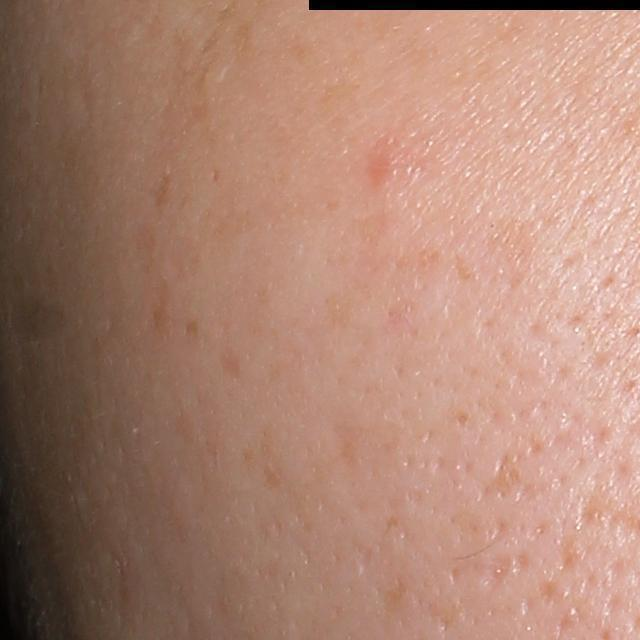atrophic_scar: (474, 452, 523, 504), (478, 548, 512, 593)
